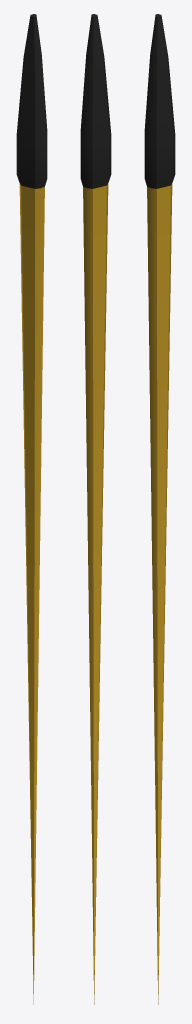
Rendered from bullet_dustpiercer.glb.
3 renders of one model, left to right at view 1: azimuth 90°, elevation 25°; view 2: azimuth 150°, elevation 25°; view 3: azimuth 270°, elevation 25°, orthographic.
Visible parts, largest first — view 1: bullet_dustpiercer; view 2: bullet_dustpiercer; view 3: bullet_dustpiercer.
Boxes of the visible parts, x1,y1,x2,y2 form: bullet_dustpiercer: (16, 14, 47, 1004); bullet_dustpiercer: (80, 14, 111, 1004); bullet_dustpiercer: (144, 14, 175, 1004).
Size of the model in its own units: 0.1064 by 3.5 by 0.098.
